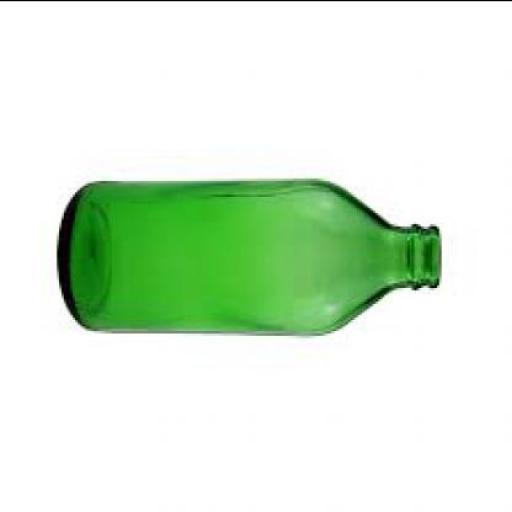glass: (60, 180, 444, 337)
